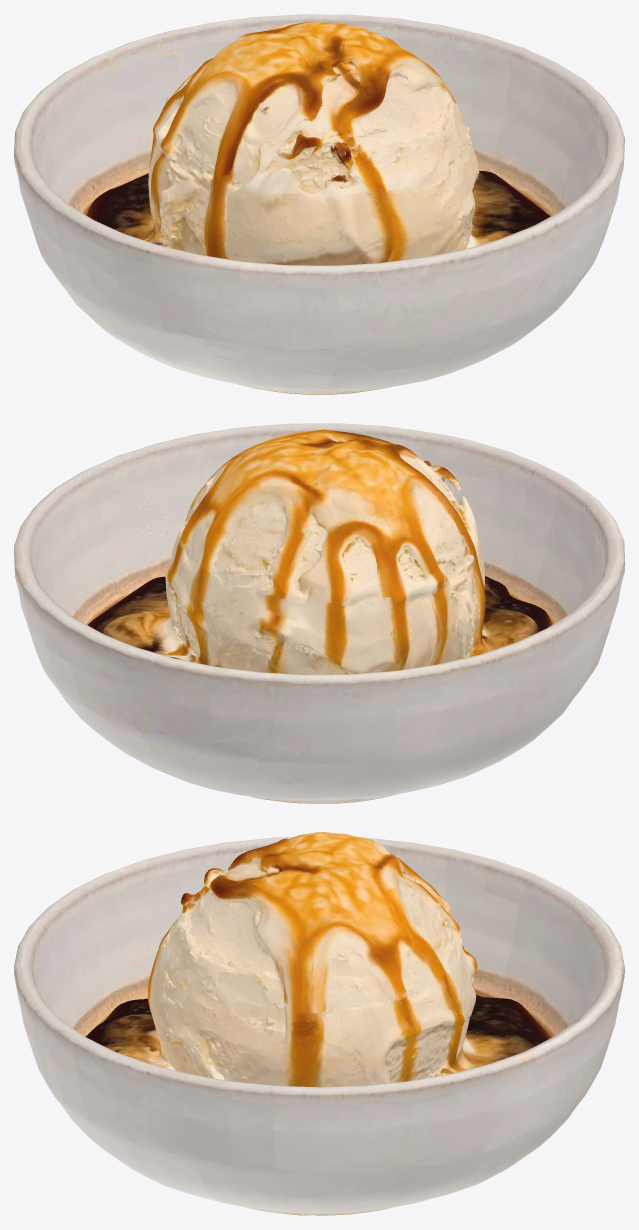
Rendered from three-oclock.glb.
The picture shows the model from 3 angles, top to bottom: view 1: azimuth 30°, elevation 25°; view 2: azimuth 150°, elevation 25°; view 3: azimuth 270°, elevation 25°; orthographic projection.
Parts seen in each view (by area): view 1: Mesh_0; view 2: Mesh_0; view 3: Mesh_0.
Boxes of the visible parts, x1,y1,x2,y2 form: Mesh_0: (14, 14, 624, 394); Mesh_0: (14, 423, 624, 803); Mesh_0: (14, 832, 624, 1215).
Size of the model in its own units: 1.9 by 1.01 by 1.9.
1 material, 1 textured.
